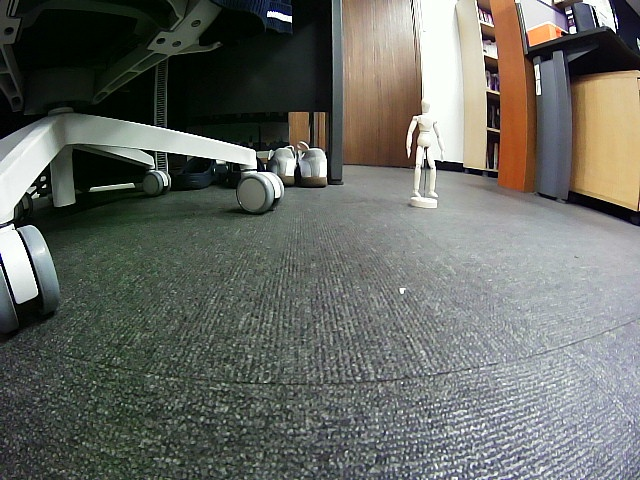person: (405, 99, 444, 201)
